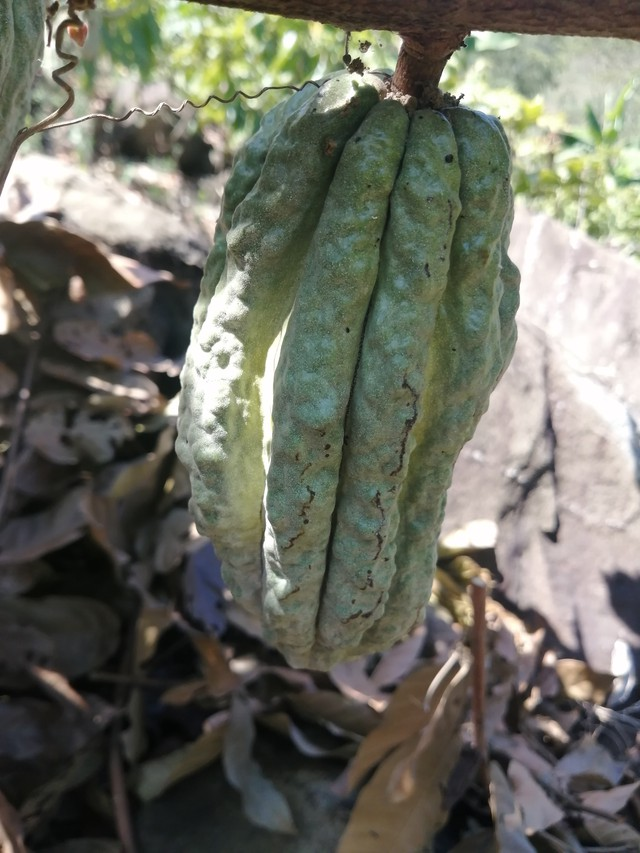Health: (157, 41, 535, 678)
